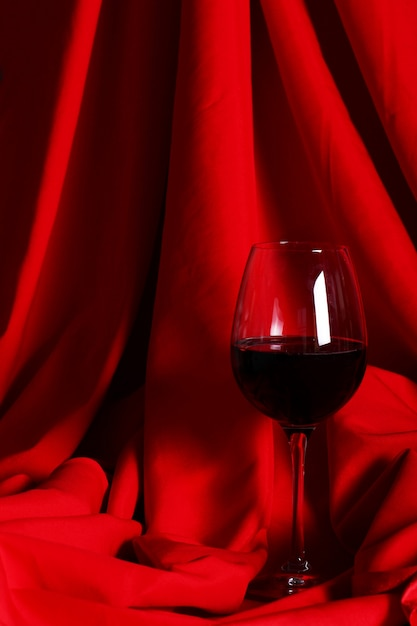alcohol: (228, 237, 371, 594)
